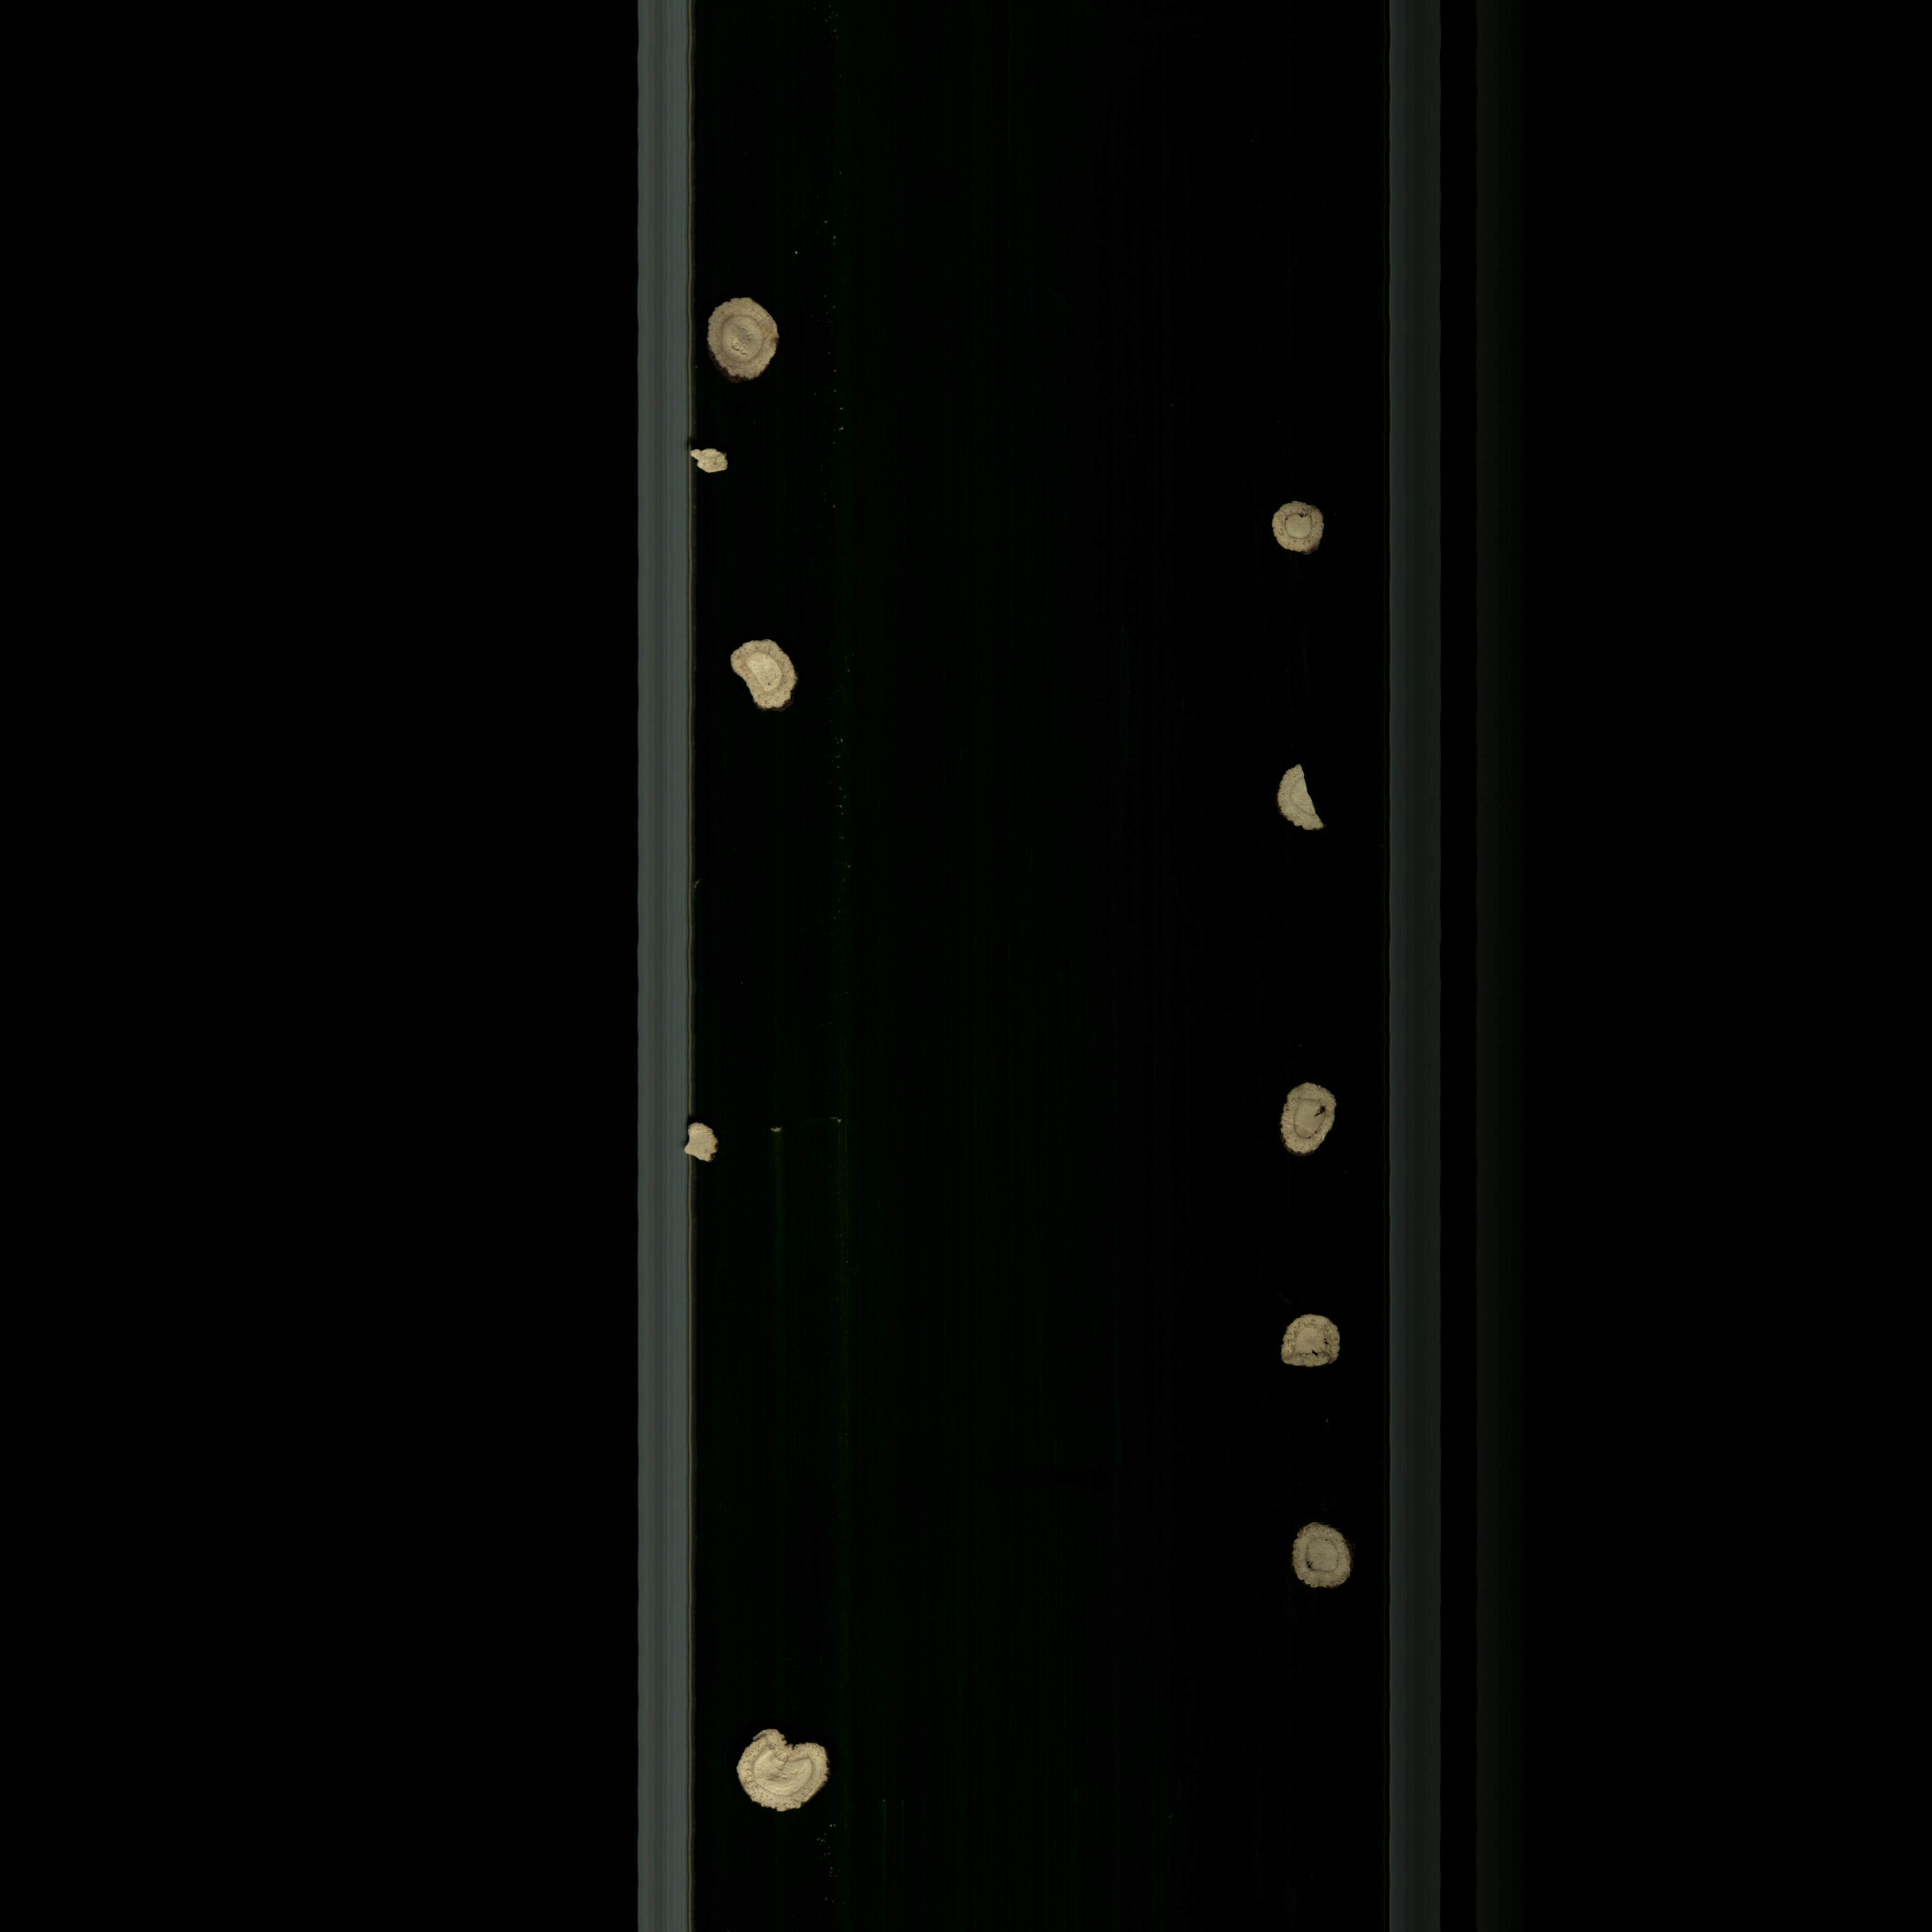debris: (1267, 748, 1334, 835)
distortion: (725, 1711, 855, 1815), (718, 628, 805, 727)
dreg: (678, 1116, 724, 1169), (685, 441, 736, 478)
moldy: (695, 294, 784, 384), (1261, 1307, 1353, 1380), (1274, 1077, 1352, 1161), (1288, 1516, 1362, 1598), (1263, 492, 1334, 563)
